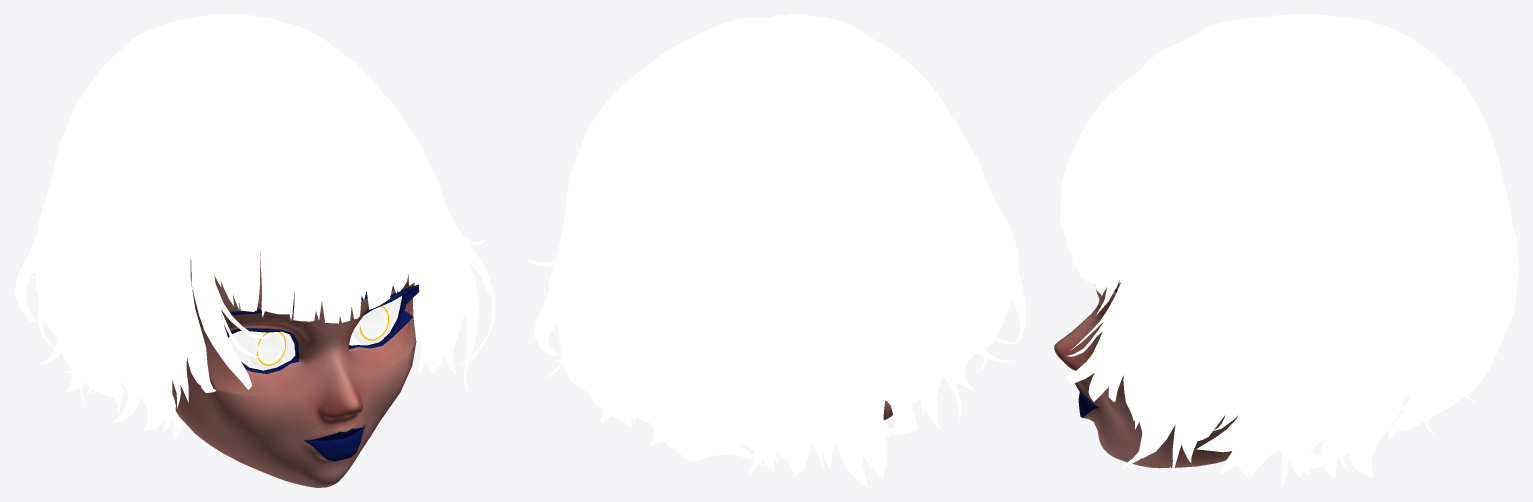
File: POP_BakedShapeKeys_HeadOnly.glb
3 renders of one model, left to right at view 1: azimuth 30°, elevation 25°; view 2: azimuth 150°, elevation 25°; view 3: azimuth 270°, elevation 25°, orthographic. The views are drawn at different scales.
Parts seen in each view (by area): view 1: POP_head_copy; view 2: POP_head_copy; view 3: POP_head_copy.
Boxes of the visible parts, <box> form: POP_head_copy: <box>14,14,495,487</box>; POP_head_copy: <box>525,14,1025,487</box>; POP_head_copy: <box>1054,14,1518,487</box>.
Size of the model in its own units: 0.3205 by 0.284 by 0.2833.
Materials: 11 (1 with a texture image).
